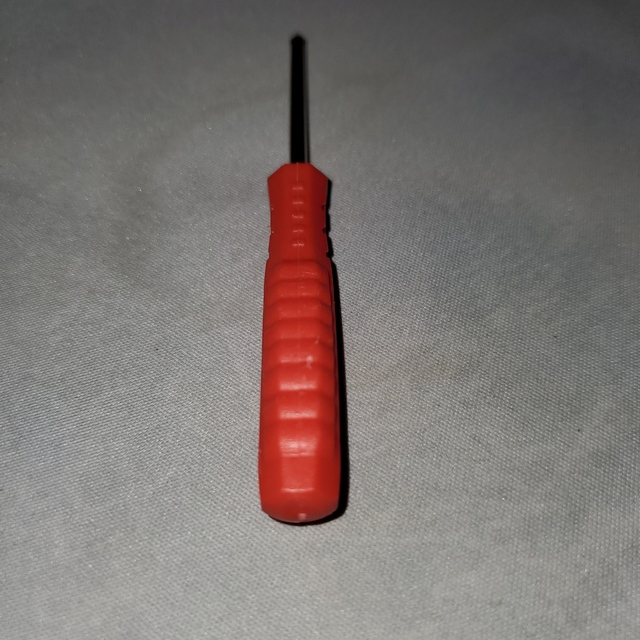screwdriver: (243, 21, 368, 531)
